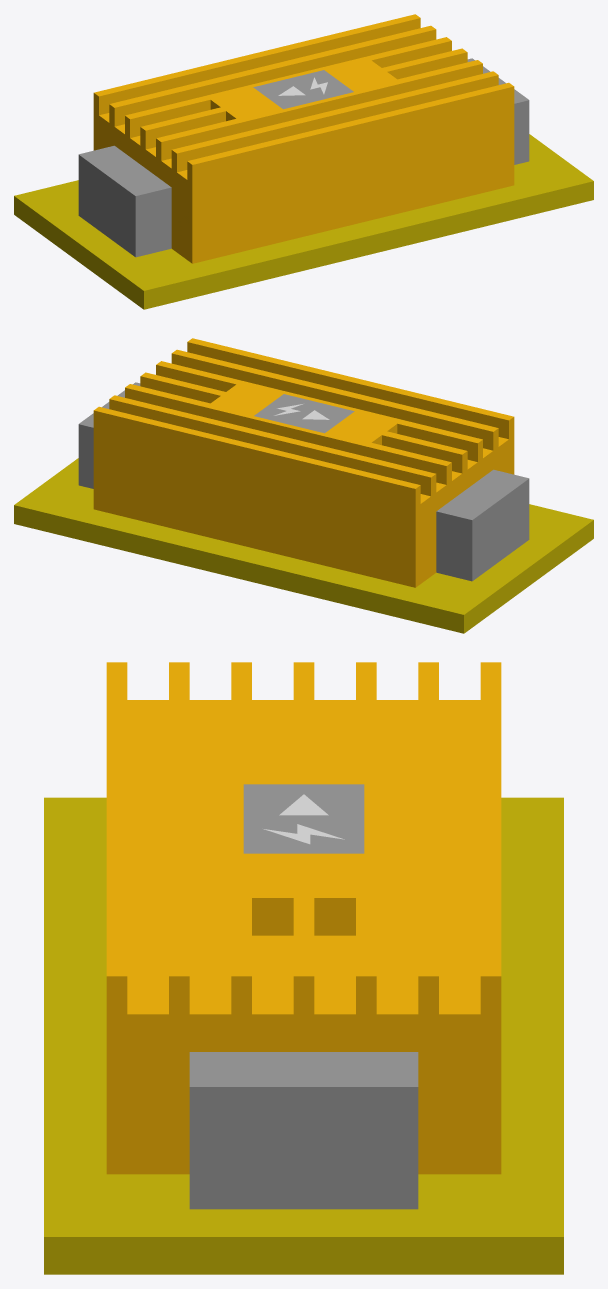
Rendered from epe_power_regulator.dae.
3 renders of one model, top to bottom at view 1: azimuth 30°, elevation 25°; view 2: azimuth 150°, elevation 25°; view 3: azimuth 270°, elevation 25°, orthographic. The views are drawn at different scales.
Visible parts, largest first — view 1: regulator; view 2: regulator; view 3: regulator.
Part boxes in pixels (x1,y1,x2,y2): regulator: (14,14,593,309); regulator: (14,338,593,633); regulator: (44,662,563,1274).
Bounding box in the file's own units: 0.5 × 0.25 × 0.125.
